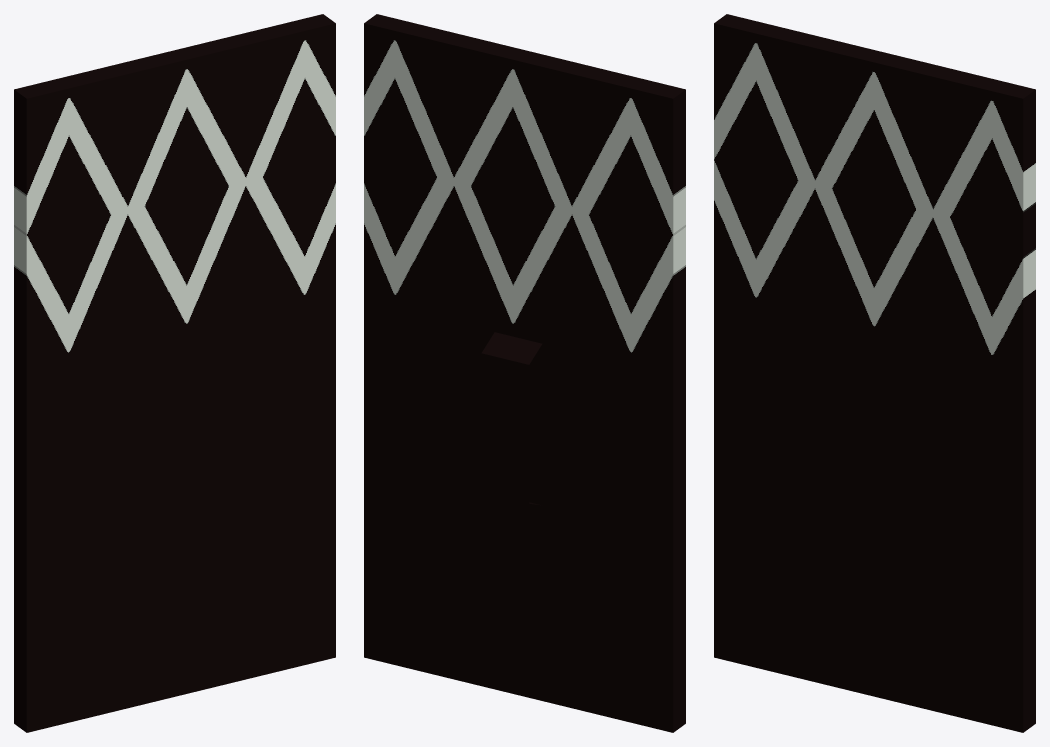
The model's file is yayoi_s_tedate_c.dae.
The picture shows the model from 3 angles, left to right: view 1: azimuth 30°, elevation 25°; view 2: azimuth 150°, elevation 25°; view 3: azimuth 330°, elevation 25°; orthographic projection.
Visible parts, largest first — view 1: shield_tedate_c; view 2: shield_tedate_c; view 3: shield_tedate_c.
Boxes of the visible parts, x1,y1,x2,y2 form: shield_tedate_c: (14, 14, 335, 732); shield_tedate_c: (364, 14, 685, 732); shield_tedate_c: (714, 14, 1035, 732).
Size of the model in its own units: 1.04 by 0.1517 by 2.04.
Materials: 1 (1 with a texture image).
